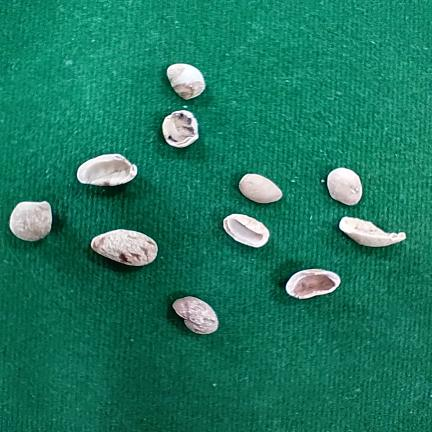shell: (91, 229, 158, 266), (339, 217, 406, 247), (77, 154, 137, 186), (172, 296, 219, 334), (10, 201, 52, 241), (285, 269, 341, 299), (224, 214, 269, 248), (162, 110, 199, 148), (167, 63, 205, 99), (327, 167, 362, 205), (238, 173, 282, 203)
